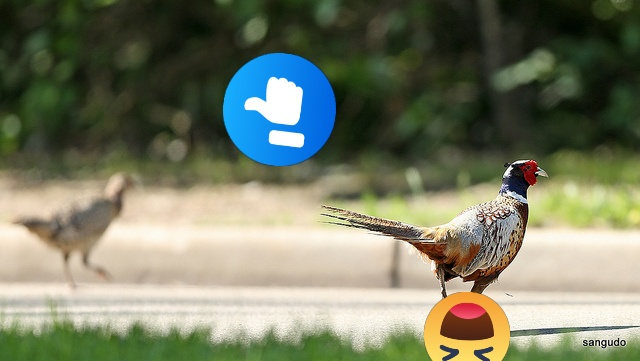haha: (424, 292, 510, 361)
like: (223, 53, 336, 166)
